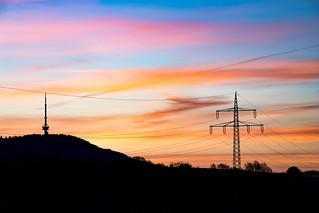power_tower: (208, 91, 266, 170)
